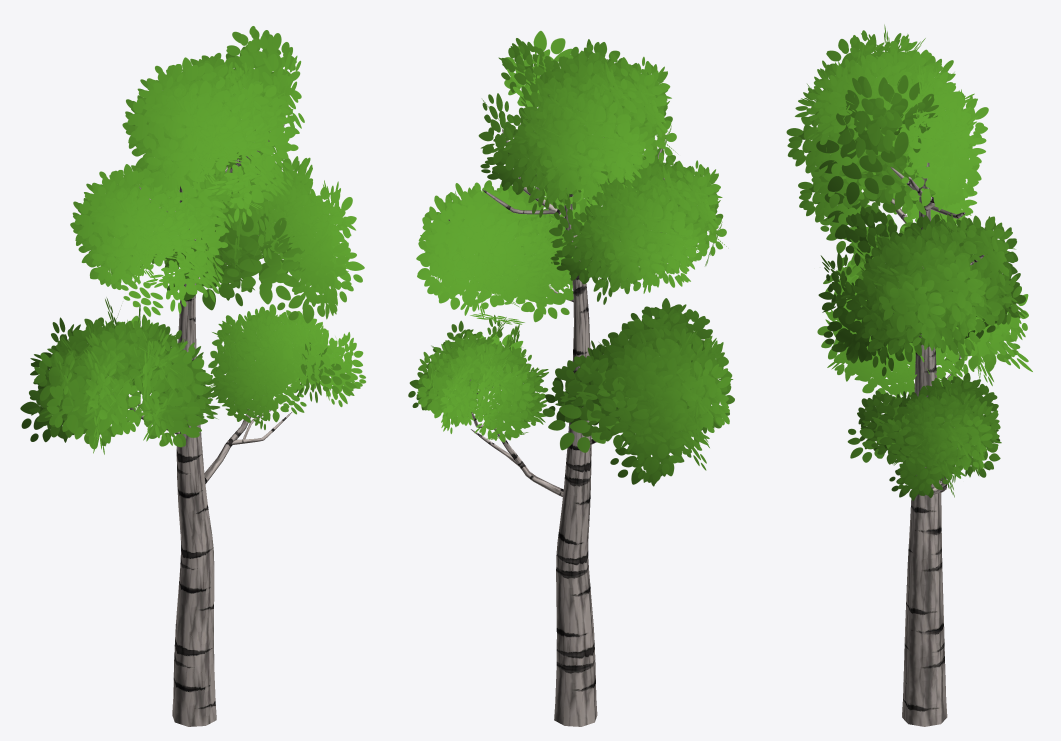
File: BirchTree_1.gltf
3 views of the same model, side by side, from view 1: azimuth 30°, elevation 25°; view 2: azimuth 150°, elevation 25°; view 3: azimuth 270°, elevation 25° (orthographic). The views are drawn at different scales.
Visible parts, largest first — view 1: BirchTree_1; view 2: BirchTree_1; view 3: BirchTree_1.
Part boxes in pixels (x1,y1,x2,y2): BirchTree_1: (20, 26, 365, 726); BirchTree_1: (408, 30, 734, 726); BirchTree_1: (786, 24, 1032, 726).
Size of the model in its own units: 2.71 by 5.45 by 1.94.
Materials: 2 (2 with a texture image).
